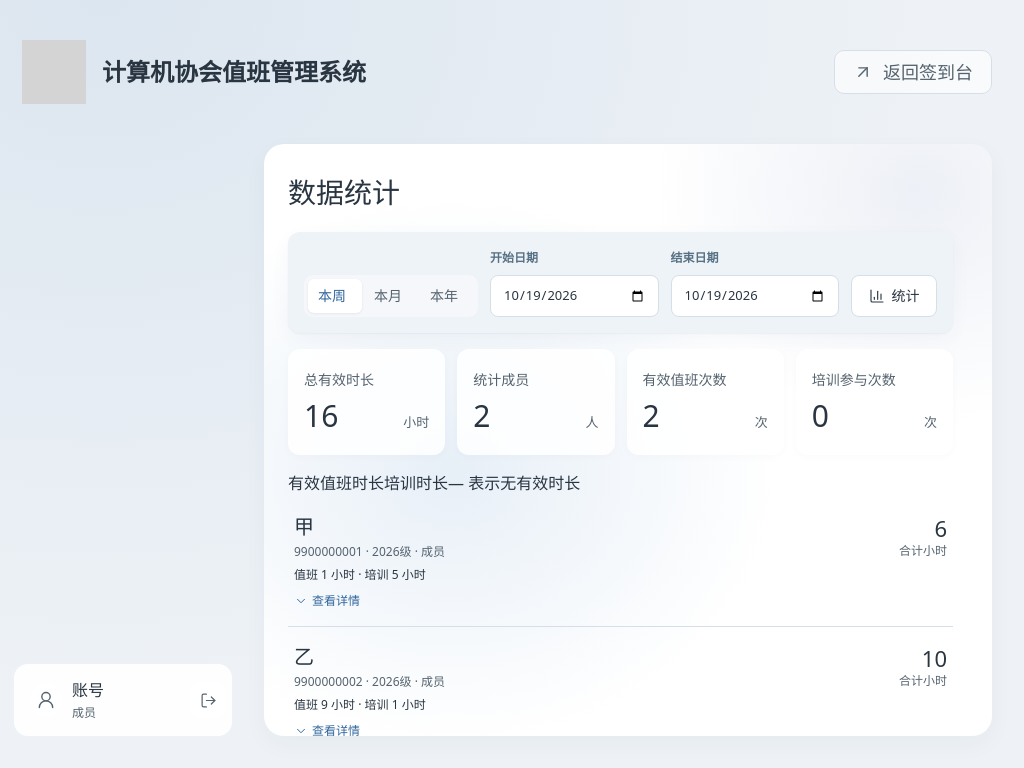
StatsPage request states › orders all loaded results by total hours while retaining full-range metrics
The width and height of the screenshot is (1024, 768).
Click the button "本月".
click(391, 296)  # box [364, 279, 418, 313]
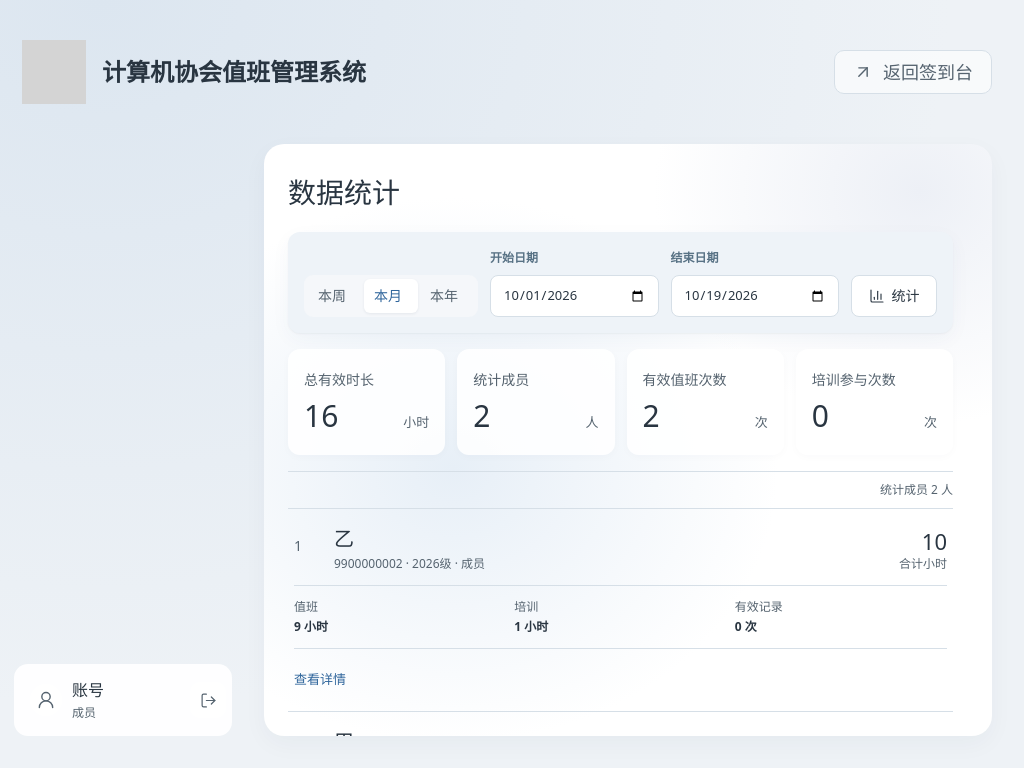
Expected: the element with class "workspace-metric-hours" shows "16", [304, 395, 338, 436]
Now the element with class "stats-result-tools" reads "统计成员 2 人", box [880, 481, 953, 498]
